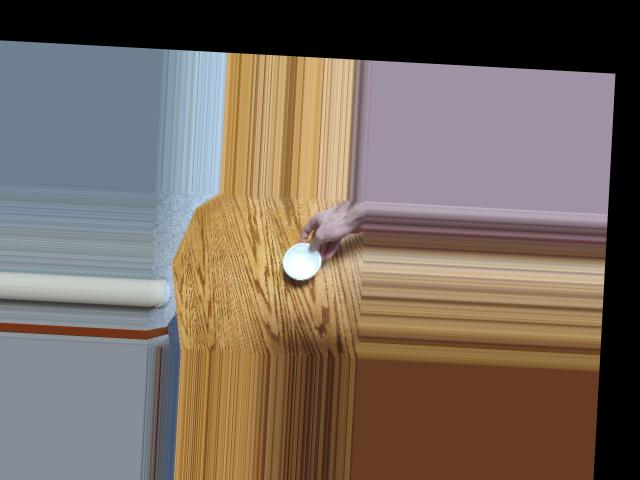cotage: (282, 240, 324, 281)
